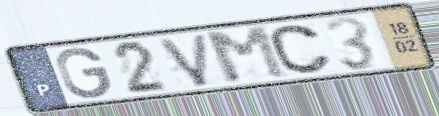2: (112, 39, 171, 96)
3: (324, 14, 380, 73)
C: (267, 23, 335, 76)
G: (53, 46, 114, 101)
M: (201, 24, 293, 86)
V: (155, 31, 212, 89)
